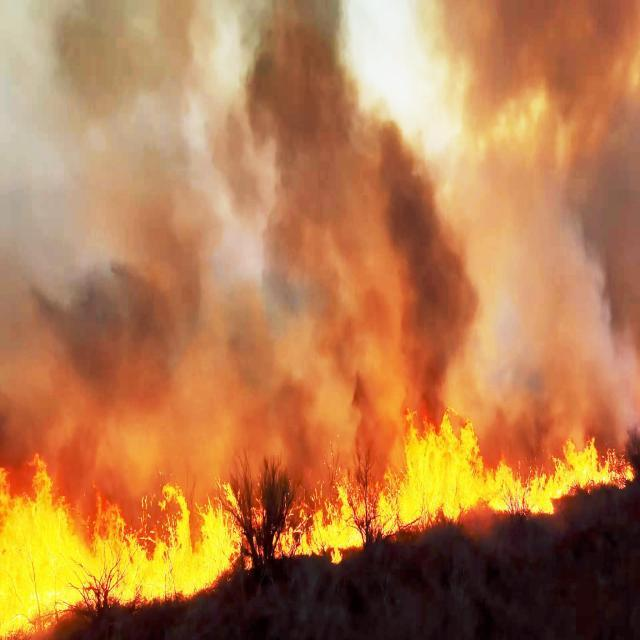Fire: (0, 406, 640, 640)
Smoke: (1, 0, 640, 410)
